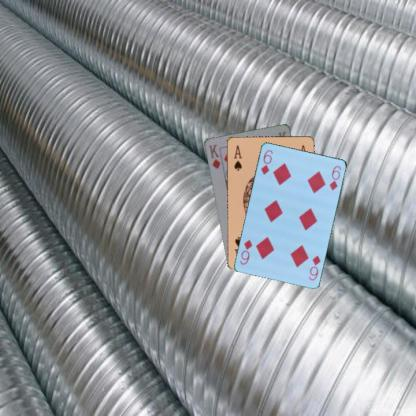6d: (258, 146, 274, 176), (306, 252, 322, 282)
As: (231, 142, 243, 172)
Kd: (206, 141, 222, 170)
